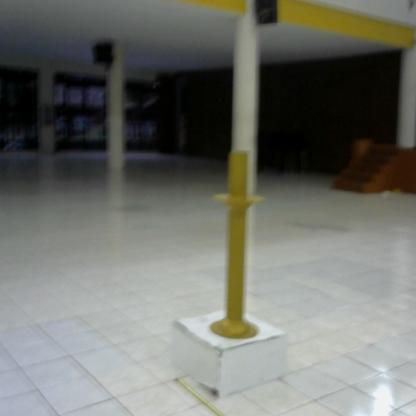pole: (210, 145, 268, 348)
